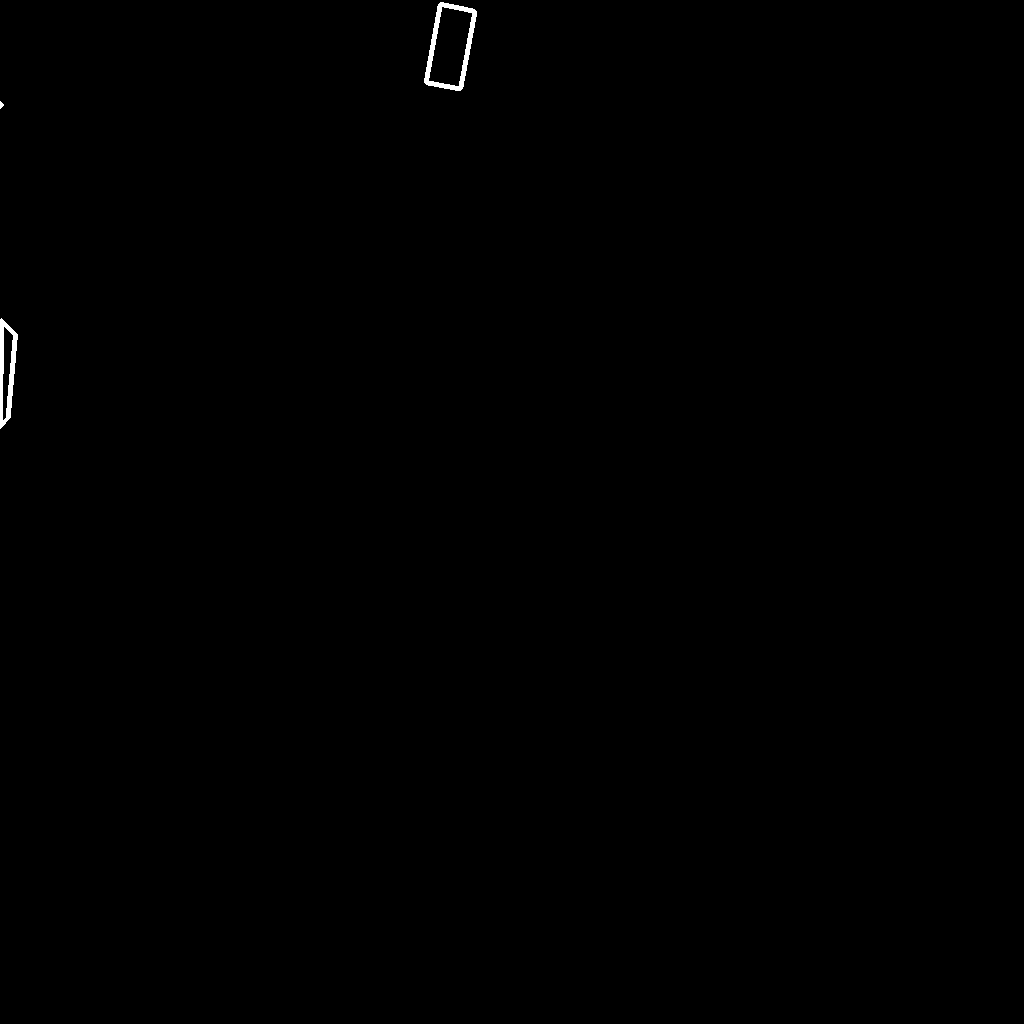building: (426, 4, 476, 90), (0, 320, 16, 428), (0, 103, 3, 108)
